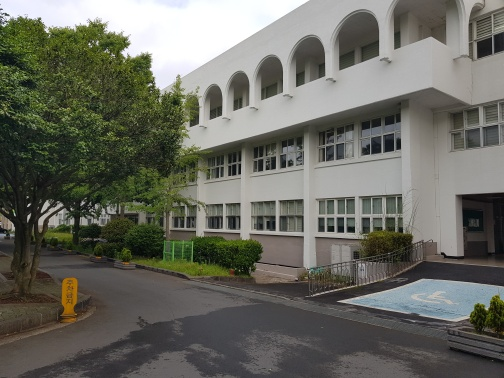Main Building of University: (175, 3, 504, 288), (199, 10, 386, 120)
